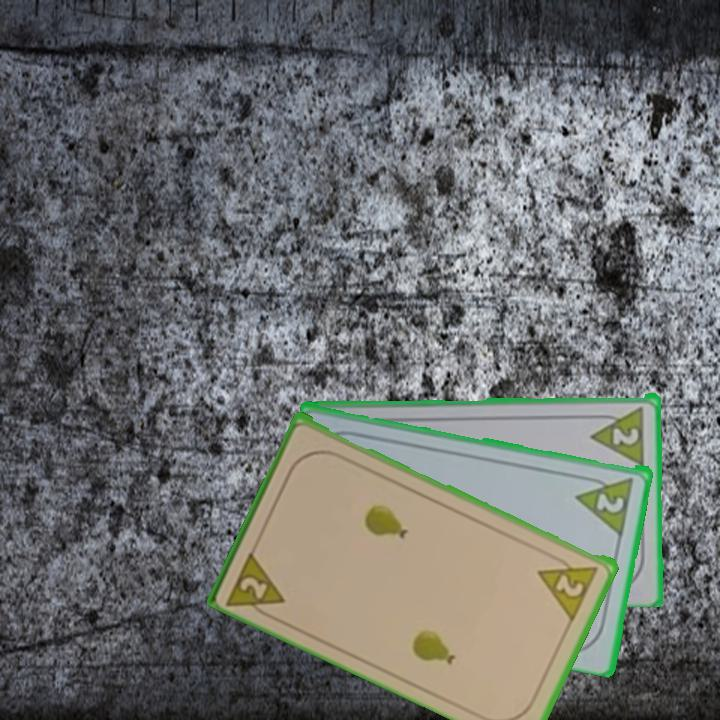2p: (224, 544, 289, 623), (534, 550, 602, 621), (593, 487, 628, 516), (609, 422, 642, 448)
